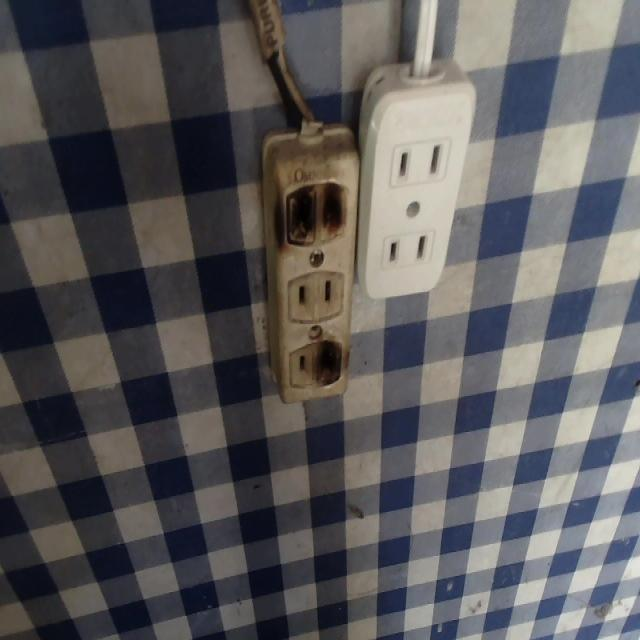-: (285, 177, 348, 248), (312, 338, 347, 386)
